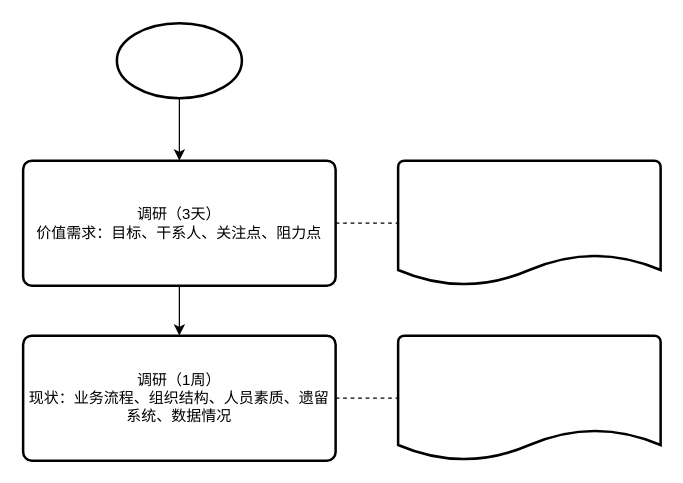
The diagram is 683 pixels wide and 483 high, and some of its shapes have lost their labels. Here are the shapes that lost their labels. From the top down, the centre of each, then its label:
At [528,222]: "问题卡片：问题/机会、影响人、后果、解决方案 干系人列表".
At [528,397]: "业务流程图 组织结构图 系统拓扑图 数据ER图".
